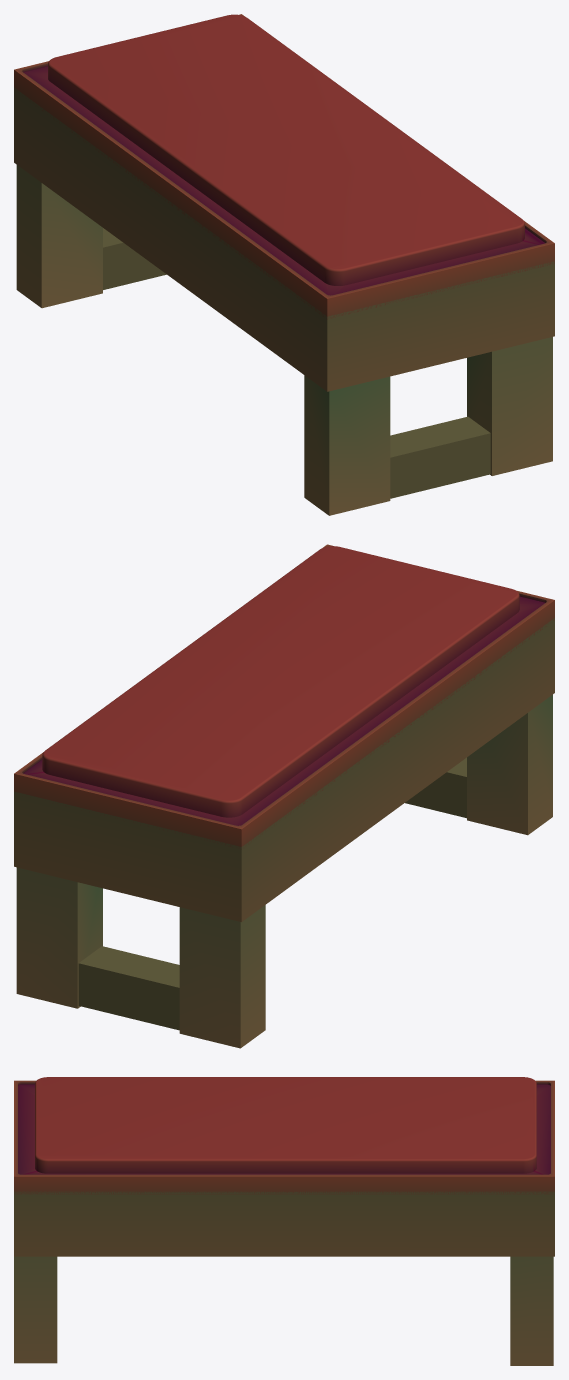
3 renders of one model, top to bottom at view 1: azimuth 30°, elevation 25°; view 2: azimuth 150°, elevation 25°; view 3: azimuth 270°, elevation 25°, orthographic. The views are drawn at different scales.
Visible parts, largest first — view 1: top_base, apron, leg.003, leg.002, leg.001, bar.001, bar; view 2: top_base, apron, leg.001, leg, leg.003, bar, bar.001; view 3: top_base, apron, leg, leg.002.
Part boxes in pixels (box(x1,y1,x2,y2)): top_base: box(14, 14, 554, 319); apron: box(14, 87, 554, 391); leg.003: box(304, 375, 390, 515); leg.002: box(467, 337, 552, 475); leg.001: box(16, 165, 102, 308); bar.001: box(390, 416, 490, 498); bar: box(103, 228, 166, 289); top_base: box(14, 544, 554, 849); apron: box(14, 618, 554, 922); leg.001: box(179, 905, 265, 1048); leg: box(16, 867, 102, 1008); leg.003: box(467, 694, 552, 835); bar: box(78, 946, 179, 1030); bar.001: box(405, 757, 466, 818); top_base: box(14, 1077, 554, 1194); apron: box(14, 1191, 554, 1256); leg: box(510, 1256, 553, 1365); leg.002: box(14, 1256, 57, 1363).
Bounding box in the file's own units: 0.1679 × 0.1646 × 0.4.
